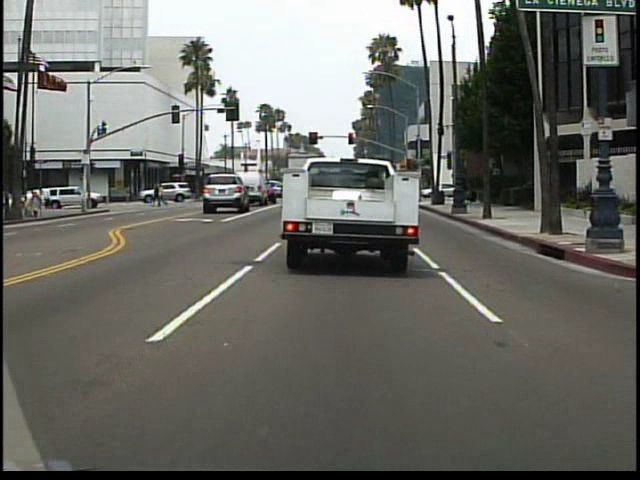person: (42, 184, 55, 213)
